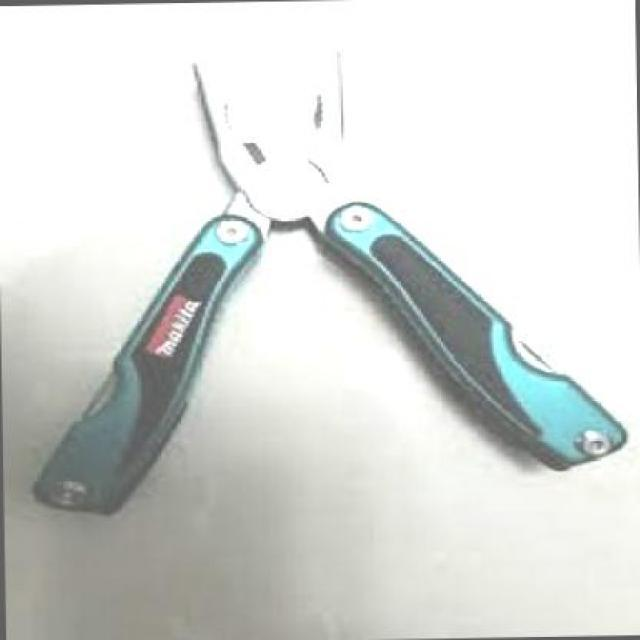pliers: (9, 30, 638, 548)
